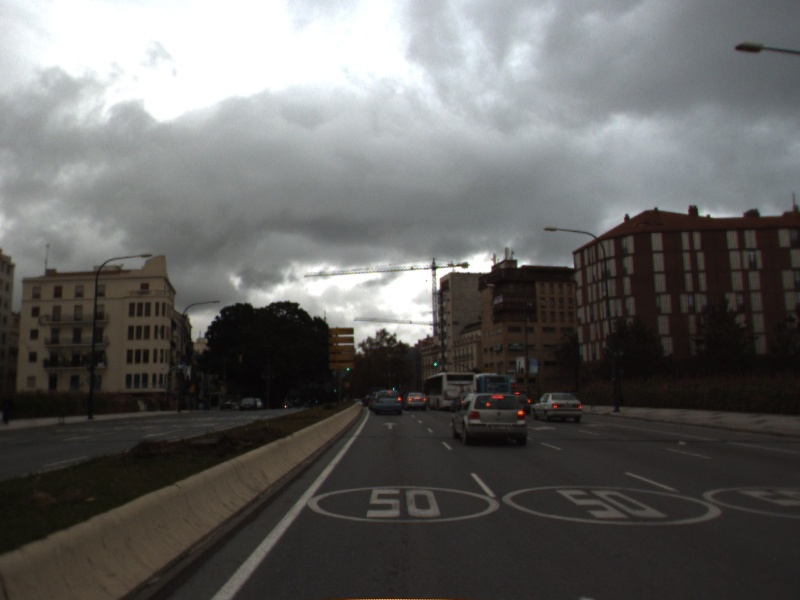STRAIGHT: (380, 420, 399, 431)
